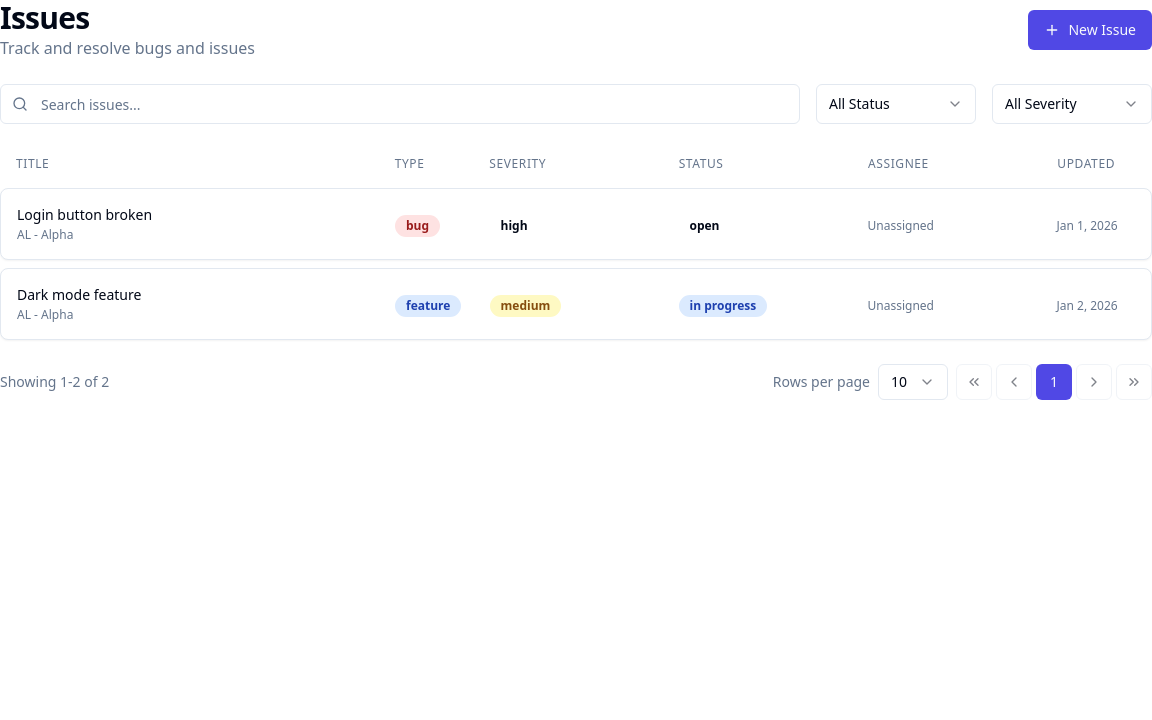
it: IssuesPage › should POST to /api/issues and refresh the list on submit
Expected: the heading "Login button broken" is shown, left=17, top=205, right=152, bottom=224
Open create dialog
Click the button "New Issue".
click(1090, 30)  # box left=1028, top=10, right=1151, bottom=50
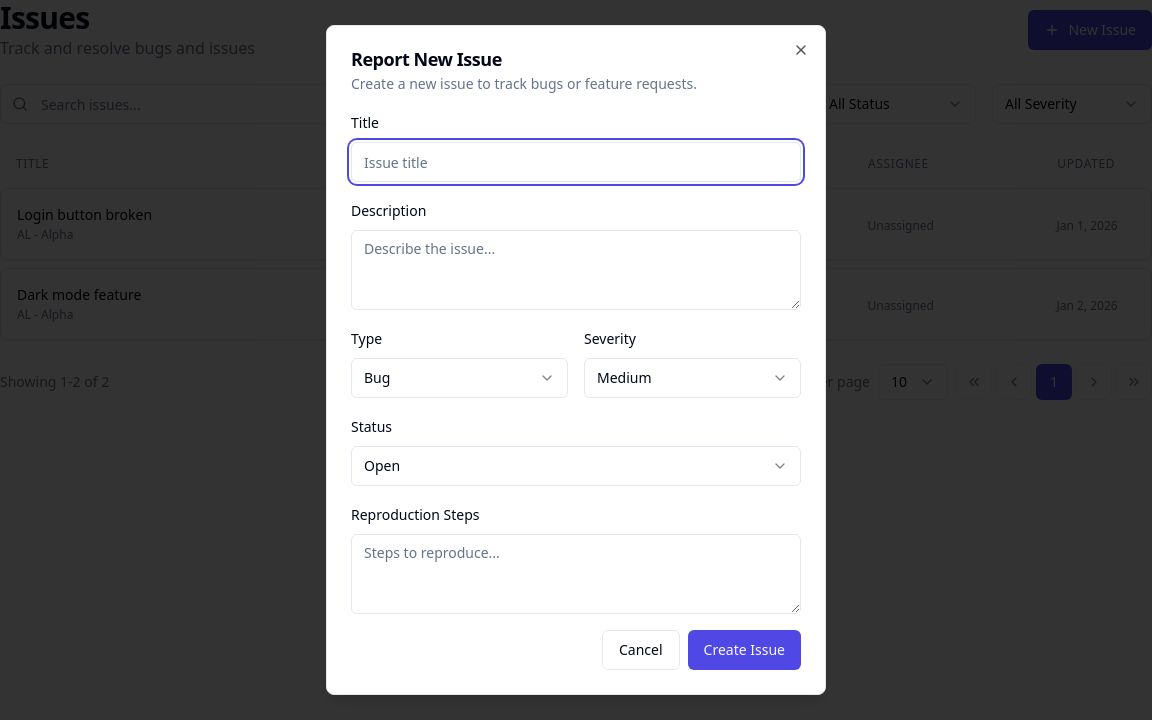
Expected: the heading "Report New Issue" is shown, left=351, top=47, right=502, bottom=71
Fill form
Type "New Critical Bug" into the field labelled "Title".
click(576, 162); type("New Critical Bug")  # box left=351, top=142, right=801, bottom=182
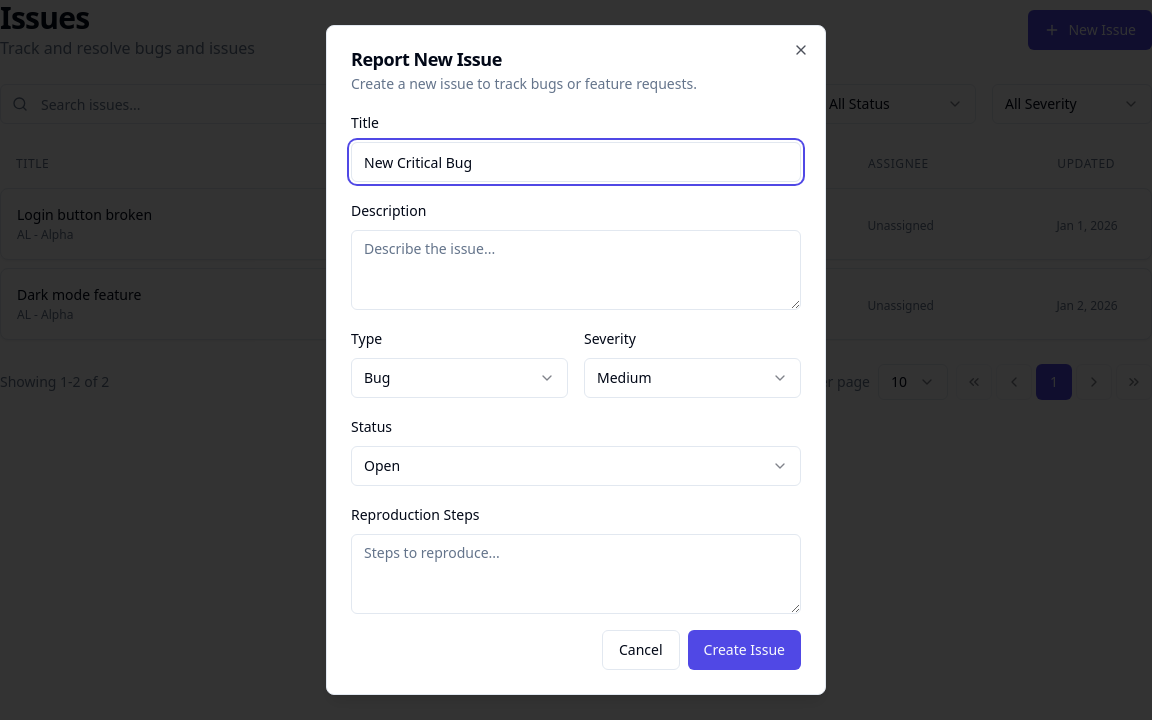
Click the button "Create Issue".
click(744, 650)  # box left=688, top=630, right=801, bottom=670
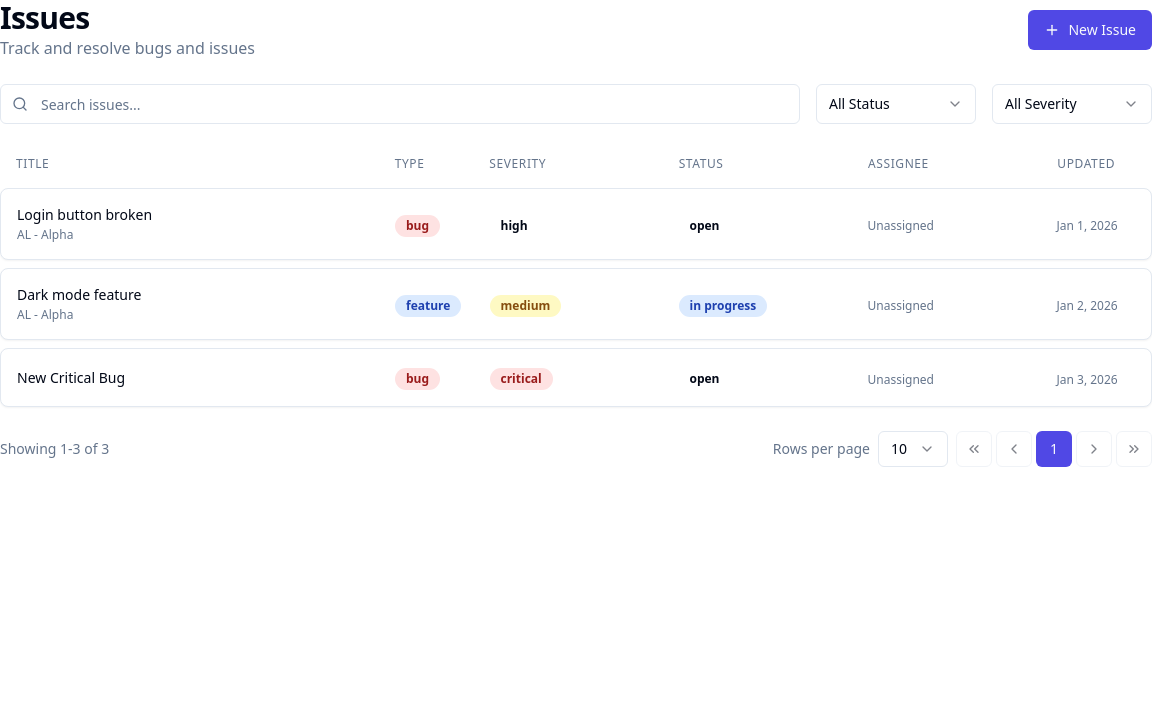
Expected: the heading "New Critical Bug" is shown, left=17, top=368, right=125, bottom=386
